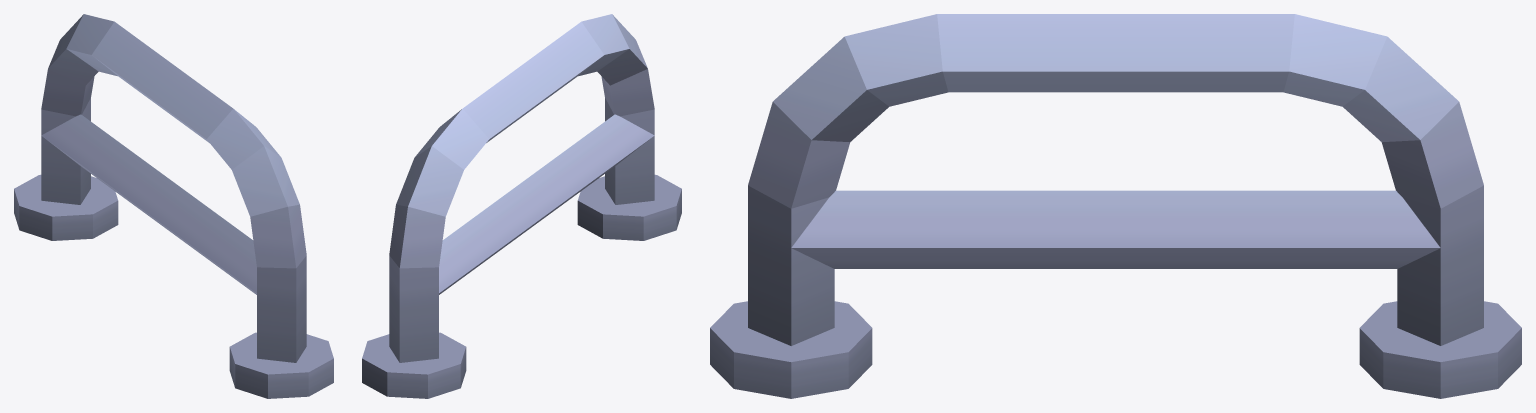
Rendered from roads__construction-fence.glb.
3 renders of one model, left to right at view 1: azimuth 30°, elevation 25°; view 2: azimuth 150°, elevation 25°; view 3: azimuth 270°, elevation 25°, orthographic. The views are drawn at different scales.
Parts seen in each view (by area): view 1: construction-fence; view 2: construction-fence; view 3: construction-fence.
Boxes of the visible parts, <box> form: construction-fence: <box>14,14,333,398</box>; construction-fence: <box>362,14,681,398</box>; construction-fence: <box>710,14,1521,398</box>.
Bounding box in the file's own units: 0.075 × 0.1787 × 0.375.
Materials: 1 (1 with a texture image).
